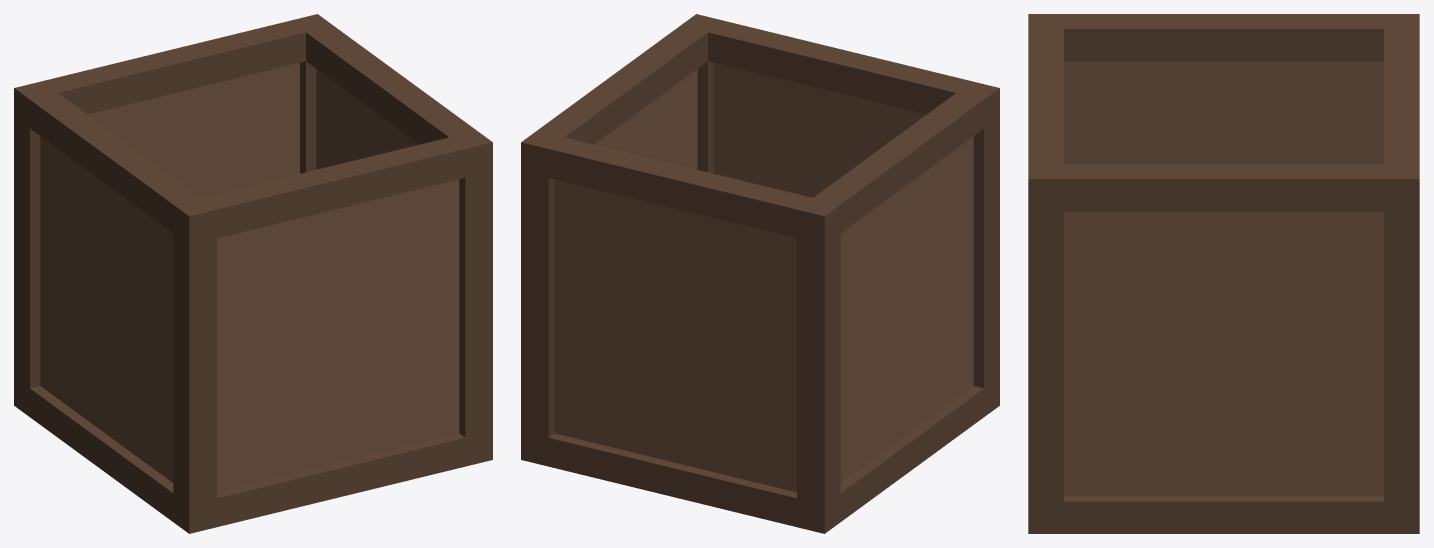
Rendered from SPW_Medieval_Box_03.glb.
3 renders of one model, left to right at view 1: azimuth 30°, elevation 25°; view 2: azimuth 150°, elevation 25°; view 3: azimuth 270°, elevation 25°, orthographic. The views are drawn at different scales.
Parts seen in each view (by area): view 1: SPW_Medieval_Box_03; view 2: SPW_Medieval_Box_03; view 3: SPW_Medieval_Box_03.
Boxes of the visible parts, x1,y1,x2,y2 form: SPW_Medieval_Box_03: (14,14,492,533); SPW_Medieval_Box_03: (521,14,999,533); SPW_Medieval_Box_03: (1028,14,1419,533).
Size of the model in its own units: 0.4125 by 0.4125 by 0.4125.
1 material, 1 textured.
